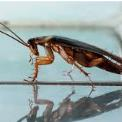cockroach: (24, 33, 122, 81)
